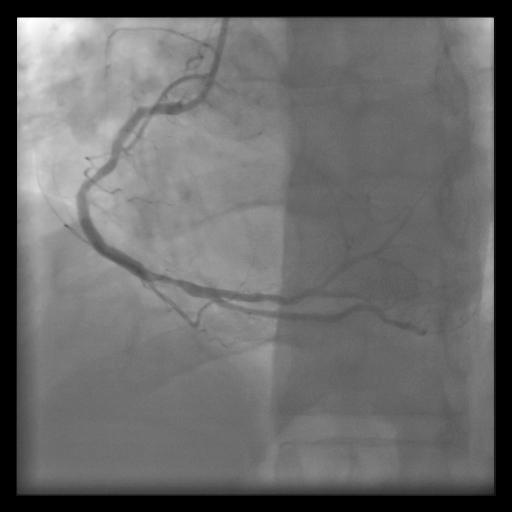Stenosis: (154, 266, 188, 296)
